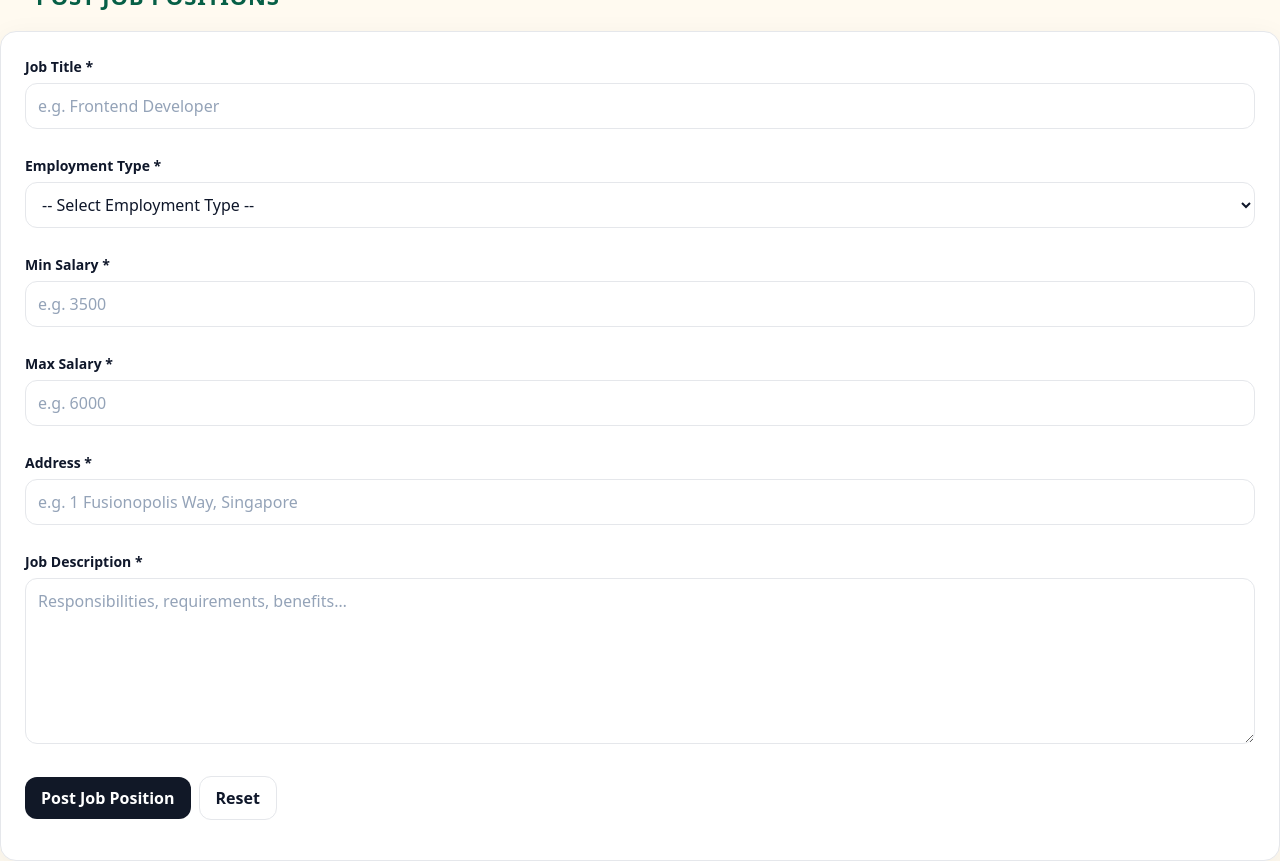
validation: required fields and type checks prevent submit
(page scrolled)
Click the button "Post Job Position": x=108, y=798 [25,777,190,819]
(page scrolled)
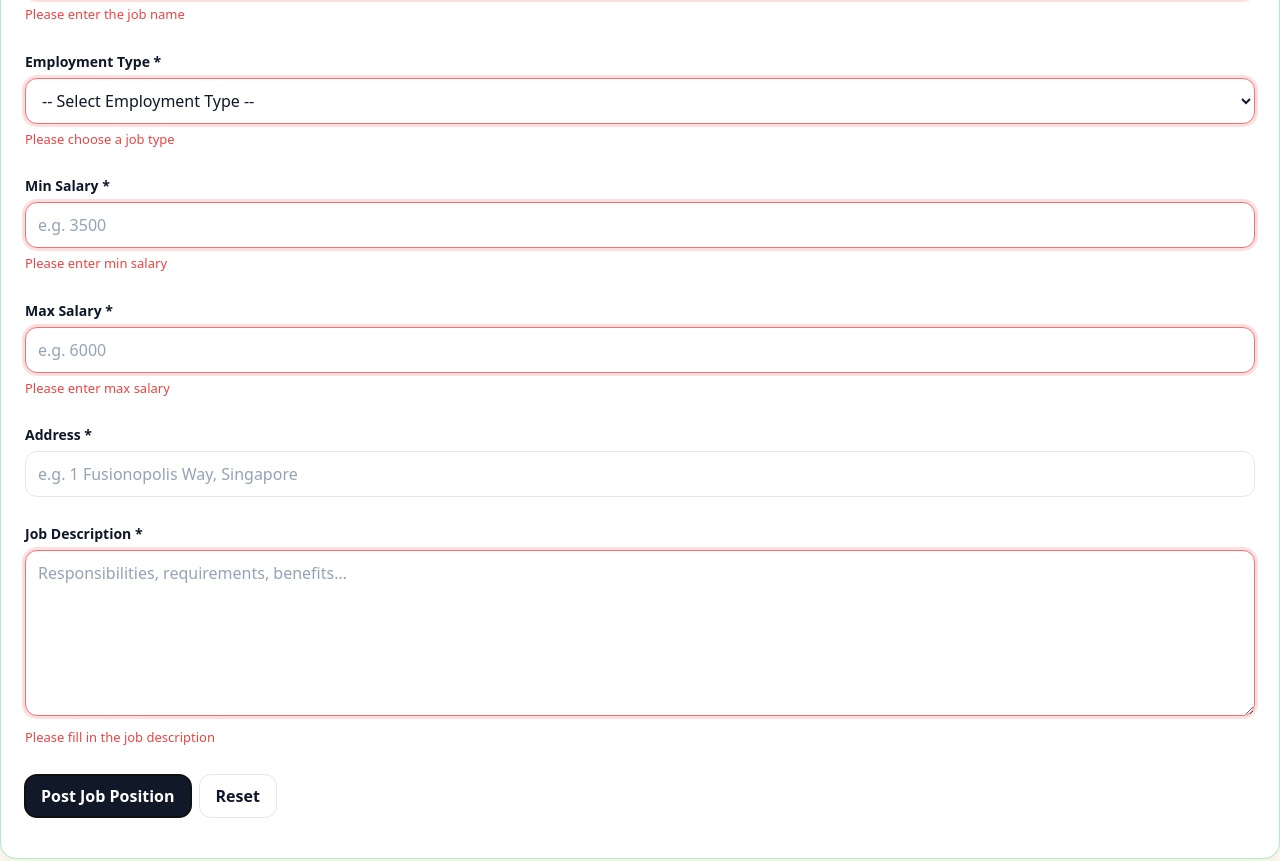
Check: the text "Please enter the job name" is shown, box [25,5,185,23]
Check: the text "Please choose a job type" is shown, box [25,130,175,148]
Check: the text "Please enter min salary" is shown, box [25,254,167,272]
